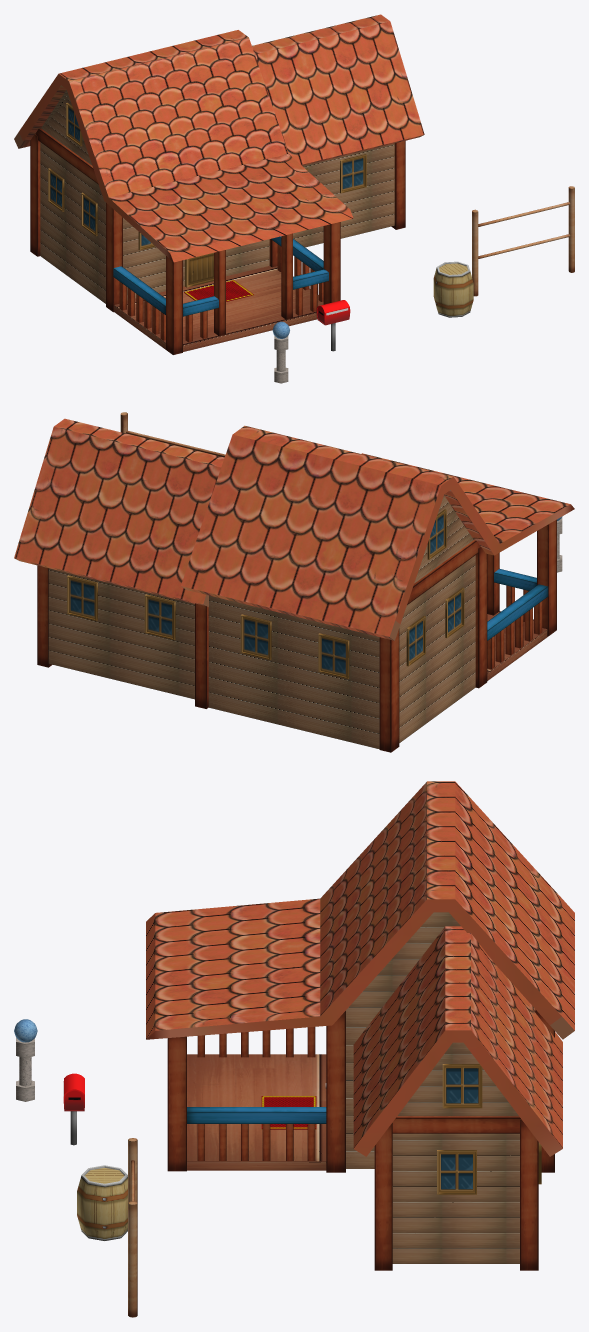
Rendered from HouseSet.FBX.
3 renders of one model, top to bottom at view 1: azimuth 30°, elevation 25°; view 2: azimuth 150°, elevation 25°; view 3: azimuth 270°, elevation 25°, orthographic. The views are drawn at different scales.
Parts seen in each view (by area): view 1: House1, Barrel, Raotakpa, Cylinder11, Mailbox; view 2: House1, Raotakpa; view 3: House1, Barrel, Raotakpa, Cylinder11, Mailbox.
Part boxes in pixels (x1,y1,x2,y2): House1: (14, 14, 424, 354); Barrel: (433, 261, 473, 317); Raotakpa: (472, 186, 574, 296); Cylinder11: (272, 321, 289, 383); Mailbox: (316, 300, 350, 351); House1: (14, 418, 574, 752); Raotakpa: (120, 412, 225, 457); House1: (146, 781, 574, 1270); Barrel: (77, 1165, 127, 1240); Raotakpa: (128, 1138, 137, 1317); Cylinder11: (14, 1019, 37, 1101); Mailbox: (63, 1073, 84, 1145).
Bounding box in the file's own units: 184 × 92.79 × 168.
